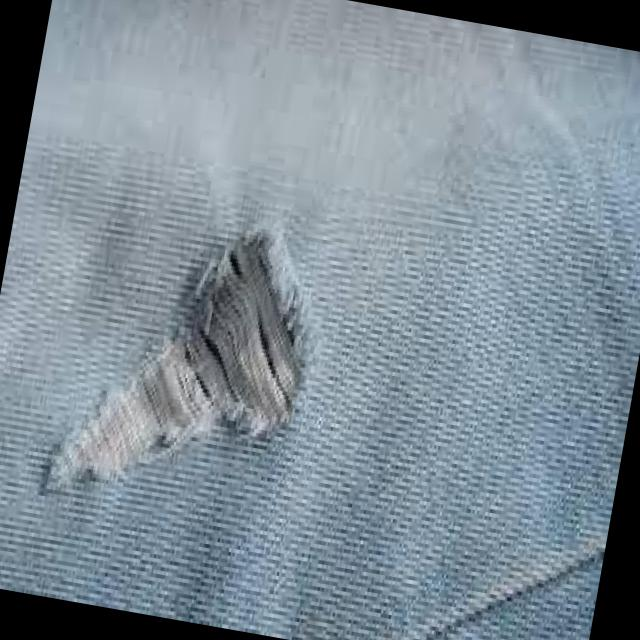cut: (47, 202, 326, 526)
